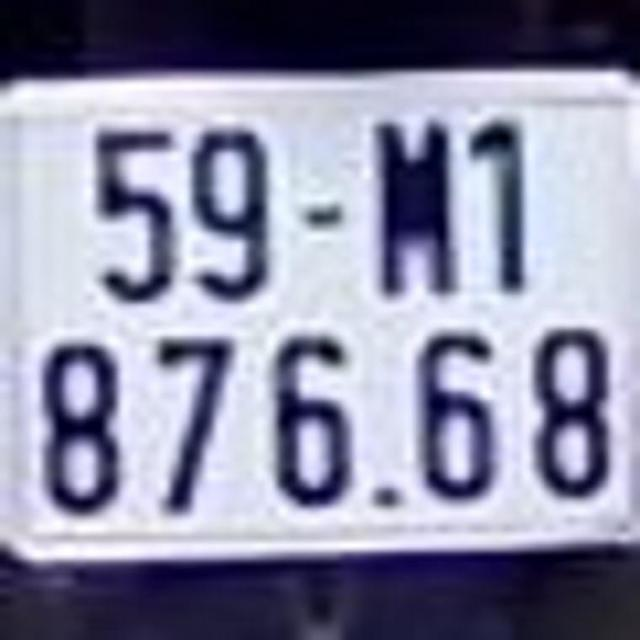1: (470, 114, 530, 289)
5: (93, 122, 176, 301)
6: (273, 334, 353, 508), (421, 330, 494, 495)
7: (153, 328, 234, 513)
8: (39, 336, 117, 507), (535, 324, 609, 492)
9: (192, 125, 268, 296)
M: (370, 114, 462, 305)
